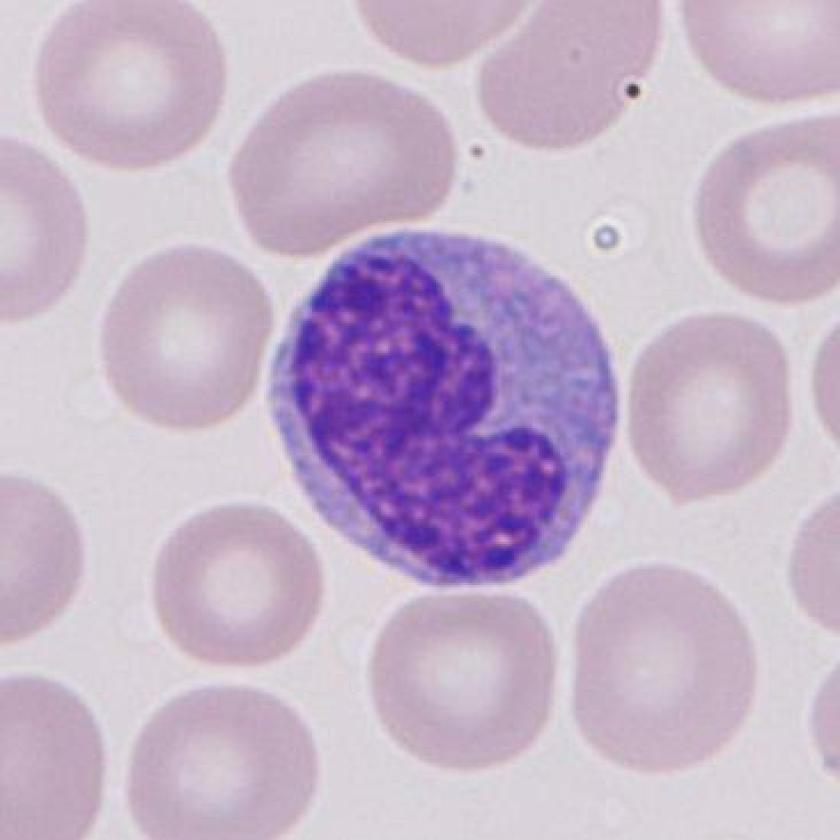monocyte: (261, 213, 642, 611)
